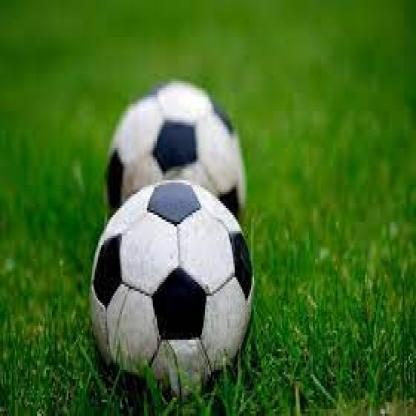ball: (92, 179, 254, 388), (106, 78, 248, 224)
